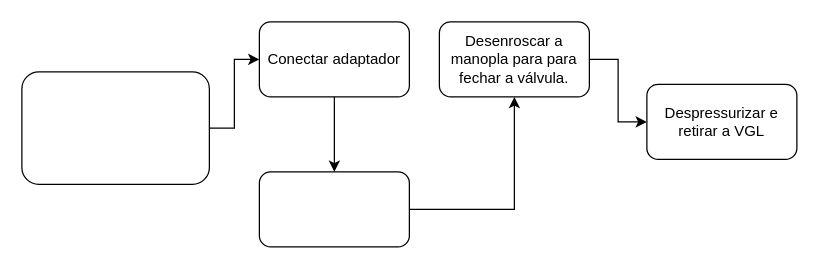
Some shapes in this 819 by 269 pixel diagram are drawn without their labels. Here are the shapes that lost their labels. From the top down, the box of each, then its label:
(21, 71, 209, 184): Inserir VGL nos alojadores: Alojador 01 - VGL 1 ½” Alojador 02 - VGL 1”
(258, 171, 409, 247): Ajustar pressão, conforme pressão de calibração.
